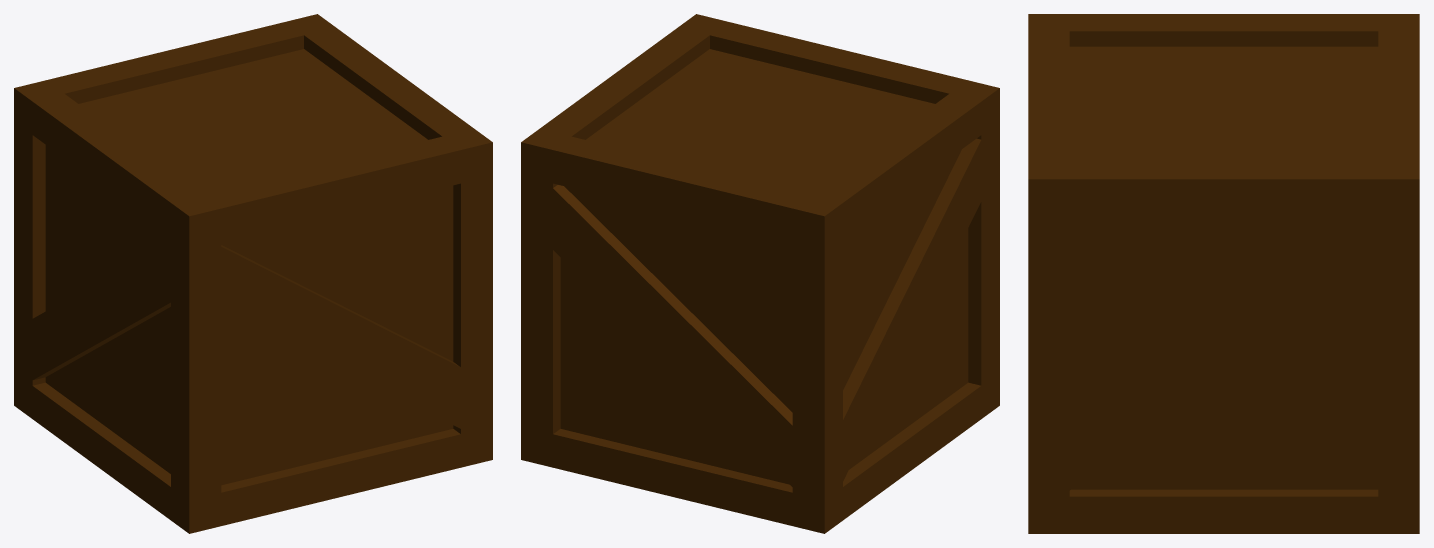
Rendered from Crate.glb.
3 renders of one model, left to right at view 1: azimuth 30°, elevation 25°; view 2: azimuth 150°, elevation 25°; view 3: azimuth 270°, elevation 25°, orthographic. The views are drawn at different scales.
Parts seen in each view (by area): view 1: Cube.001; view 2: Cube.001; view 3: Cube.001.
Part boxes in pixels (x1,y1,x2,y2): Cube.001: [14, 14, 492, 533]; Cube.001: [521, 14, 999, 533]; Cube.001: [1028, 14, 1419, 533].
Bounding box in the file's own units: 1 × 1 × 1.
